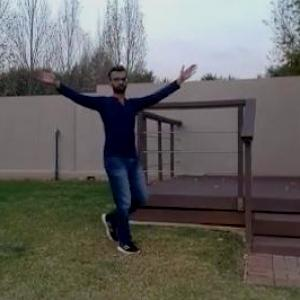takeoff: (29, 56, 200, 263)
